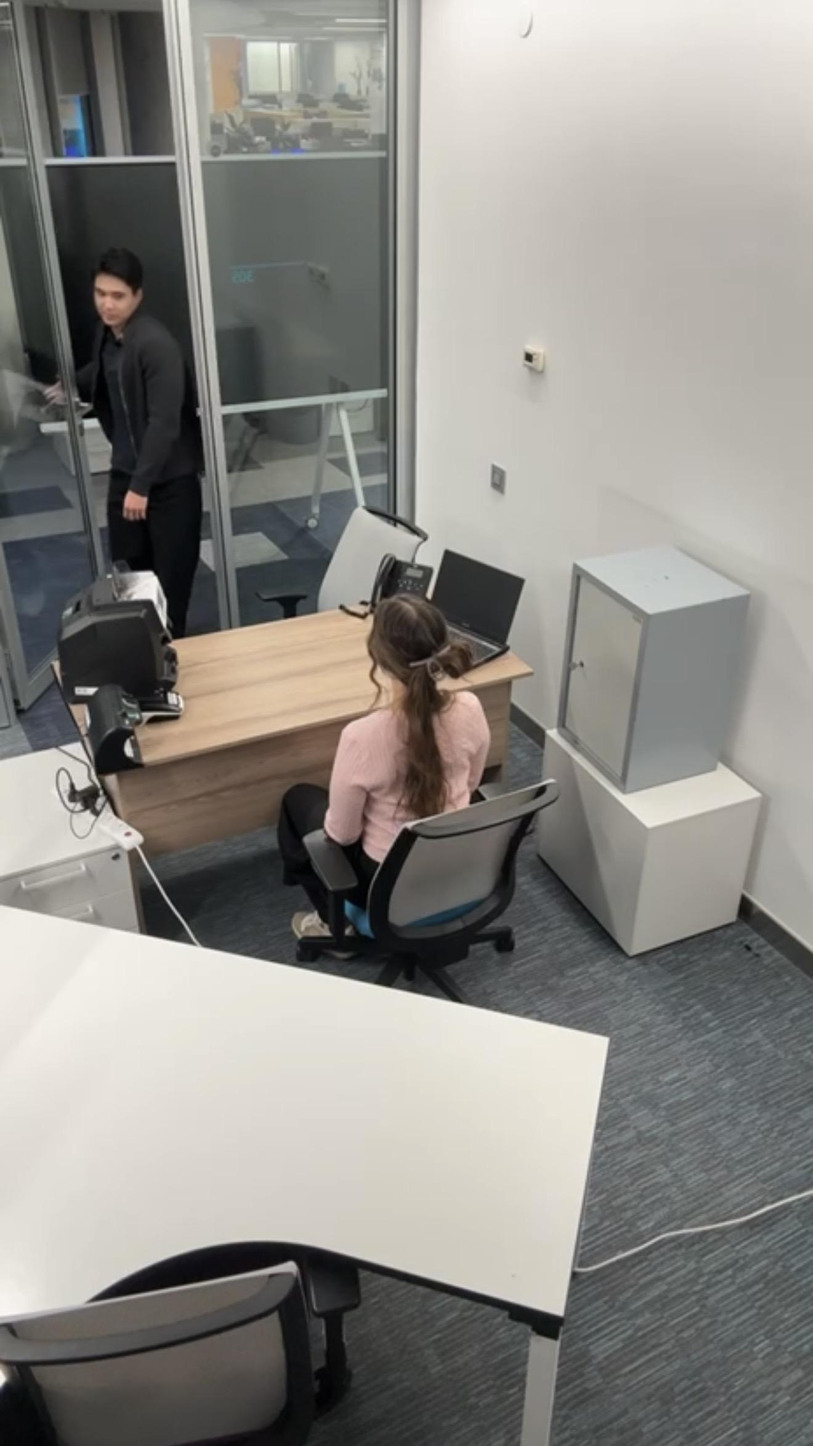counter: (62, 567, 177, 700)
door_open: (2, 2, 253, 569)
key_in: (558, 643, 597, 692)
uv_lamp: (76, 674, 144, 768)
